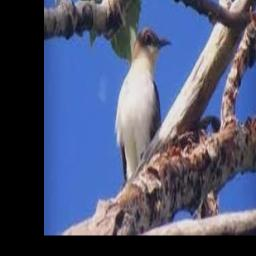Cuckoo: (115, 28, 173, 183)
